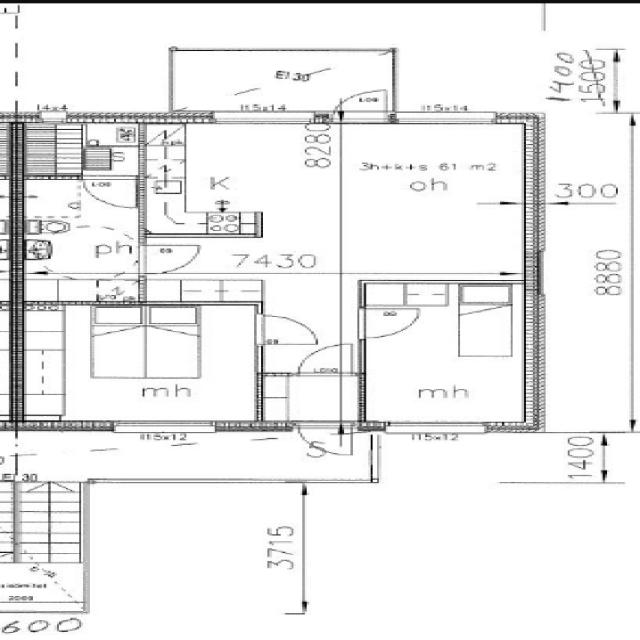door: (18, 172, 144, 283), (271, 340, 366, 376), (132, 237, 209, 278), (250, 310, 326, 348), (288, 419, 355, 462), (348, 304, 424, 341), (79, 173, 143, 211), (331, 86, 393, 125)
window: (86, 473, 299, 488), (104, 417, 226, 438), (371, 418, 493, 439), (388, 110, 504, 129), (202, 111, 326, 128), (598, 442, 610, 472)
zone: (85, 479, 302, 634), (335, 118, 527, 286), (11, 302, 267, 425), (354, 279, 532, 425), (140, 122, 338, 240), (16, 175, 142, 291), (533, 119, 635, 205)
